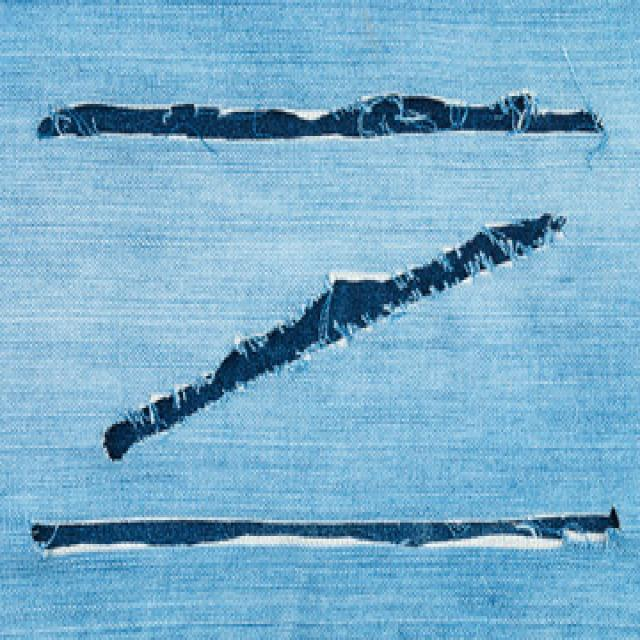Hole: (103, 214, 567, 460), (37, 90, 606, 139), (31, 508, 621, 551)
